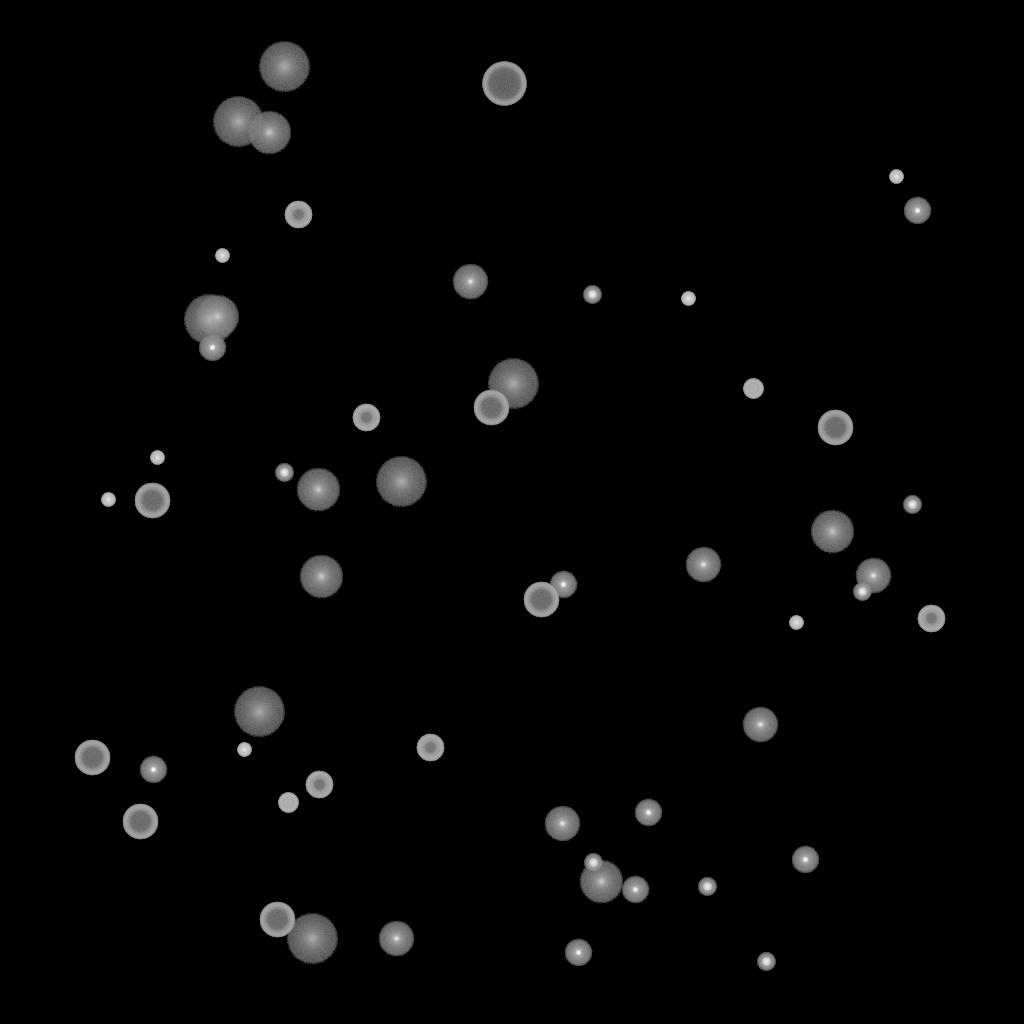depth:-10: (634, 799, 662, 827), (791, 846, 819, 874), (564, 939, 592, 967), (549, 571, 577, 599), (903, 197, 931, 225), (621, 876, 649, 904), (198, 334, 226, 362), (139, 756, 167, 784)
depth:-20: (903, 496, 921, 514), (757, 953, 775, 971), (275, 464, 293, 482), (698, 878, 716, 896), (583, 286, 601, 304), (584, 854, 602, 872), (853, 583, 871, 601)
depth:-30: (237, 743, 251, 757), (101, 493, 115, 507), (150, 451, 164, 465), (789, 616, 803, 630), (681, 292, 695, 306), (215, 249, 229, 263), (889, 170, 903, 184)
depth:-40: (278, 793, 298, 813), (743, 379, 763, 399)
depth:-50: (917, 605, 945, 633), (284, 201, 312, 229), (352, 404, 380, 432), (416, 734, 444, 762), (305, 771, 333, 799)
depth:-60: (817, 410, 853, 446), (473, 390, 509, 426), (74, 740, 110, 776), (259, 902, 295, 938), (523, 582, 559, 618), (134, 483, 170, 519), (122, 804, 158, 840)
depth:-70: (482, 62, 526, 106)
depth:0: (378, 921, 414, 957), (742, 707, 778, 743), (452, 264, 488, 300), (685, 547, 721, 583), (855, 558, 891, 594), (544, 806, 580, 842)
depth:10: (299, 555, 343, 599), (195, 295, 239, 339), (579, 860, 623, 904), (247, 111, 291, 155), (810, 510, 854, 554), (296, 468, 340, 512)
depth:20: (375, 457, 427, 507), (212, 97, 264, 147), (258, 42, 310, 92), (183, 295, 235, 345), (233, 687, 285, 737), (487, 359, 539, 409), (286, 914, 338, 964)
